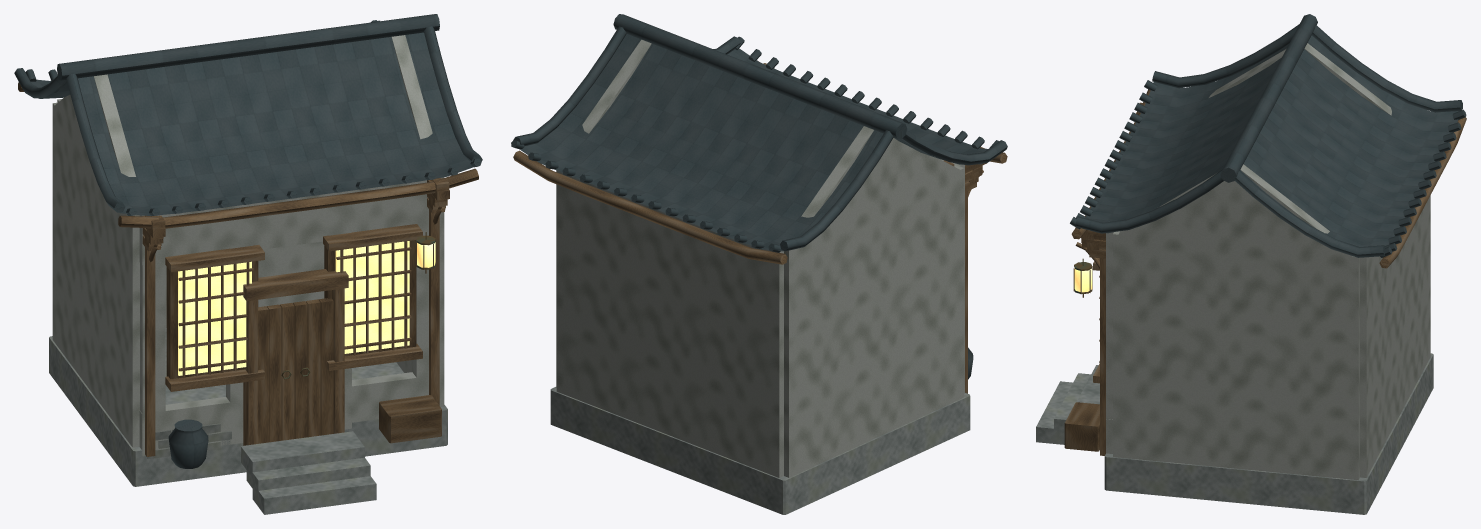
Rendered from house_03_lod0.glb.
The picture shows the model from 3 angles, left to right: view 1: azimuth 30°, elevation 25°; view 2: azimuth 150°, elevation 25°; view 3: azimuth 270°, elevation 25°; orthographic projection. The views are drawn at different scales.
Visible parts, largest first — view 1: house_03_L0__tile, house_03_L0__plaster, house_03_L0__timber, house_03_L0__stone, house_03_L0__paper; view 2: house_03_L0__plaster, house_03_L0__tile, house_03_L0__stone, house_03_L0__timber; view 3: house_03_L0__plaster, house_03_L0__tile, house_03_L0__stone, house_03_L0__timber.
Boxes of the visible parts, left/top/right/bottom form: house_03_L0__tile: left=14, top=14, right=482, bottom=468; house_03_L0__plaster: left=52, top=35, right=444, bottom=456; house_03_L0__timber: left=18, top=82, right=478, bottom=456; house_03_L0__stone: left=49, top=328, right=447, bottom=514; house_03_L0__paper: left=178, top=241, right=435, bottom=375; house_03_L0__plaster: left=556, top=39, right=964, bottom=477; house_03_L0__tile: left=511, top=14, right=1007, bottom=379; house_03_L0__stone: left=550, top=387, right=970, bottom=514; house_03_L0__timber: left=513, top=60, right=1007, bottom=393; house_03_L0__plaster: left=1106, top=43, right=1430, bottom=480; house_03_L0__tile: left=1070, top=14, right=1466, bottom=257; house_03_L0__stone: left=1036, top=353, right=1433, bottom=514; house_03_L0__timber: left=1064, top=89, right=1466, bottom=455.
Size of the model in its own units: 5.05 by 4.59 by 5.14.
6 materials, 6 textured.
